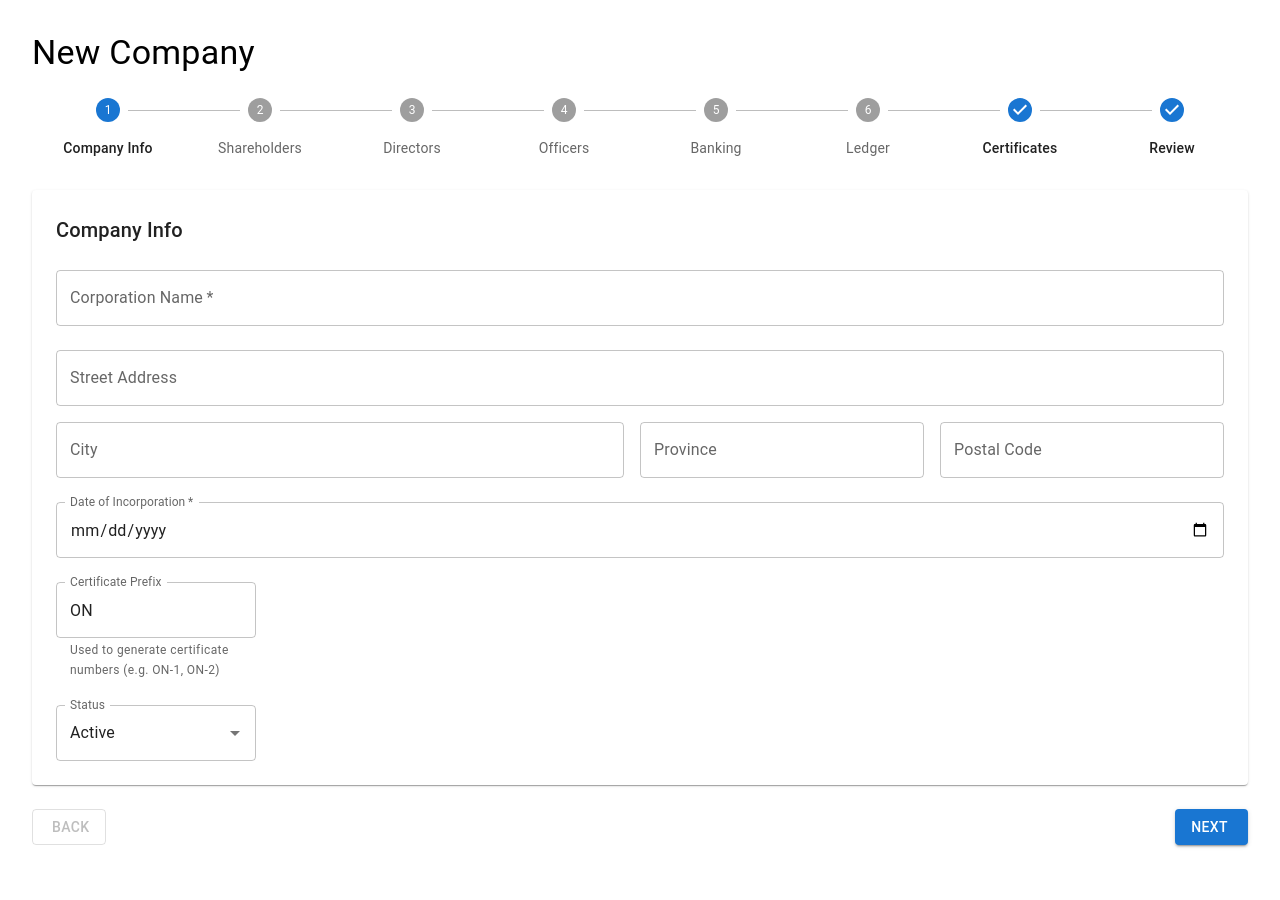
GenerateDocumentsPage › advances to Shareholders step on Next click
Click the button "Next".
click(1212, 827)  # box left=1175, top=809, right=1248, bottom=845
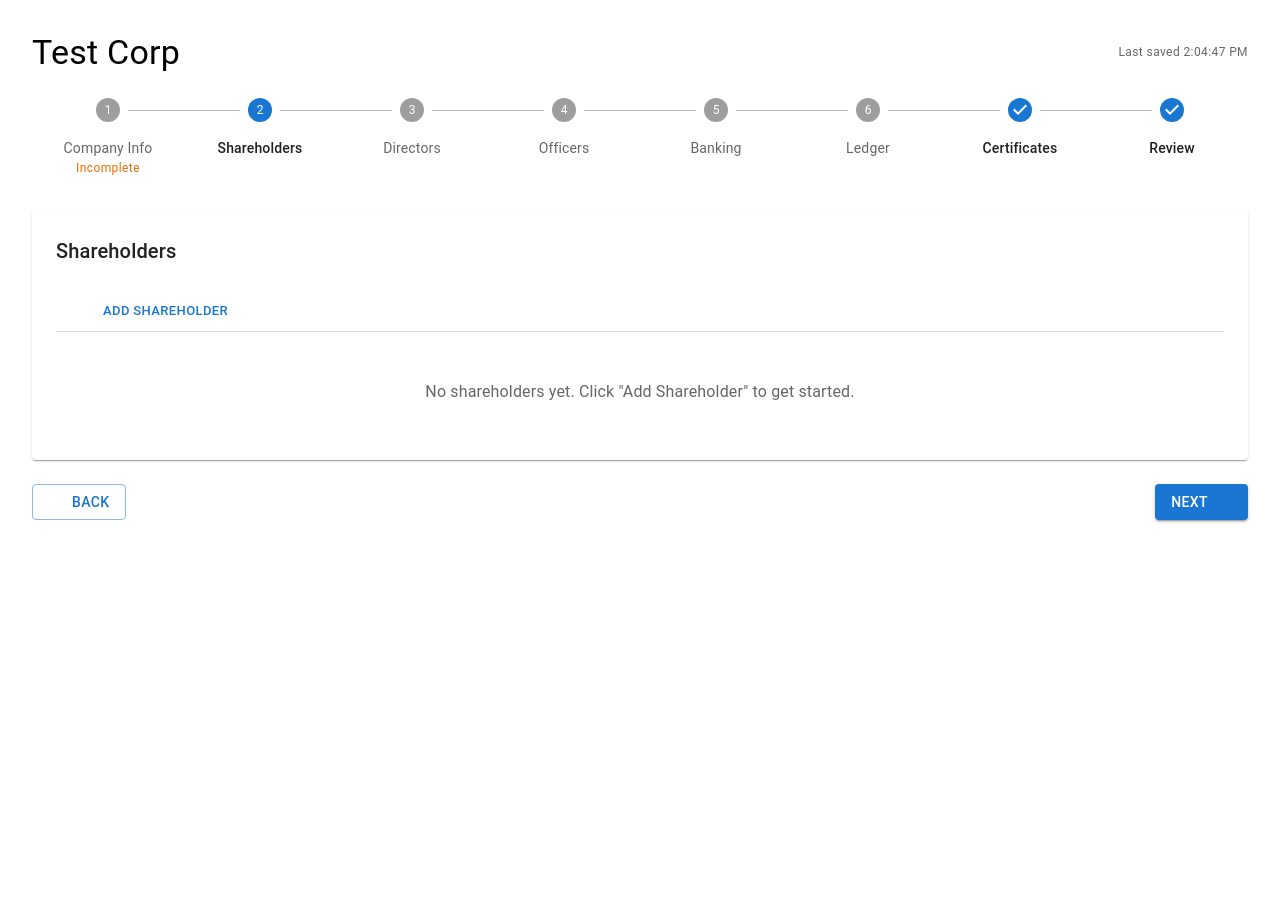
Result: the button "Add Shareholder" is shown at left=72, top=296, right=233, bottom=327
